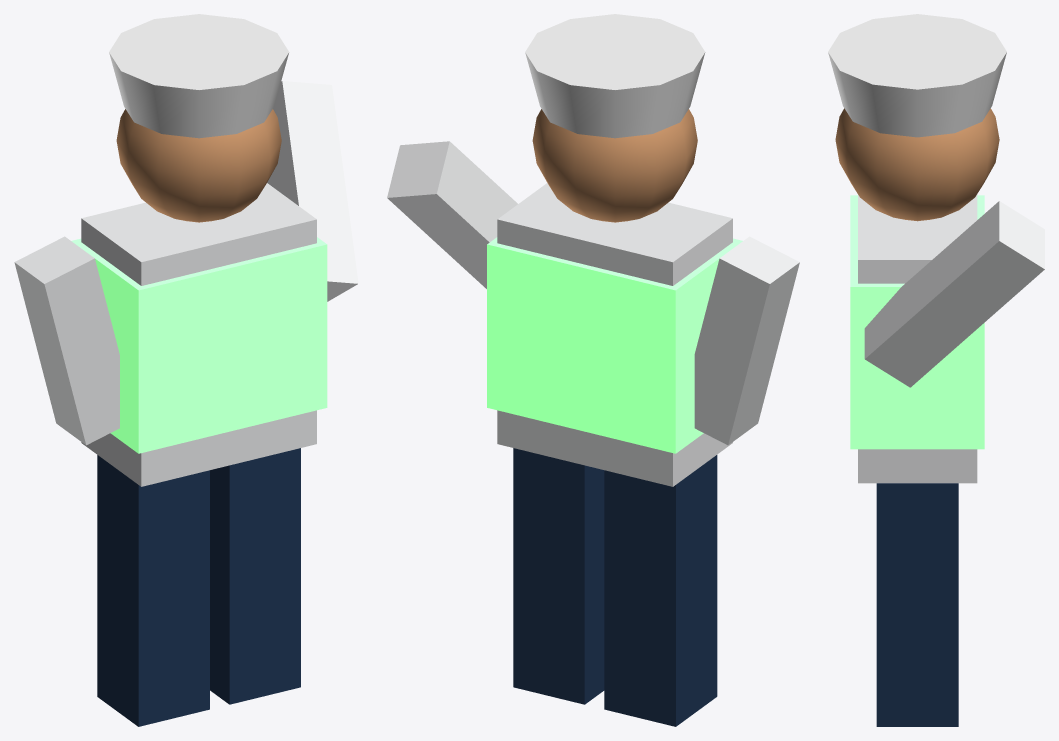
File: sergeant_npc.glb
3 renders of one model, left to right at view 1: azimuth 30°, elevation 25°; view 2: azimuth 150°, elevation 25°; view 3: azimuth 270°, elevation 25°, orthographic.
Parts seen in each view (by area): view 1: sergeant_npc; view 2: sergeant_npc; view 3: sergeant_npc.
Part boxes in pixels (box(x1,y1,x2,y2)): sergeant_npc: box(14, 14, 358, 726); sergeant_npc: box(387, 14, 799, 726); sergeant_npc: box(828, 14, 1044, 726).
Size of the model in its own units: 1.06 by 1.88 by 0.5816.
